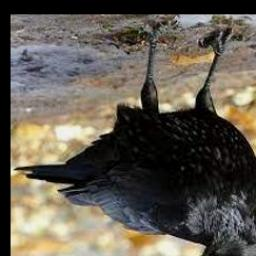Crow: (13, 21, 256, 256)
